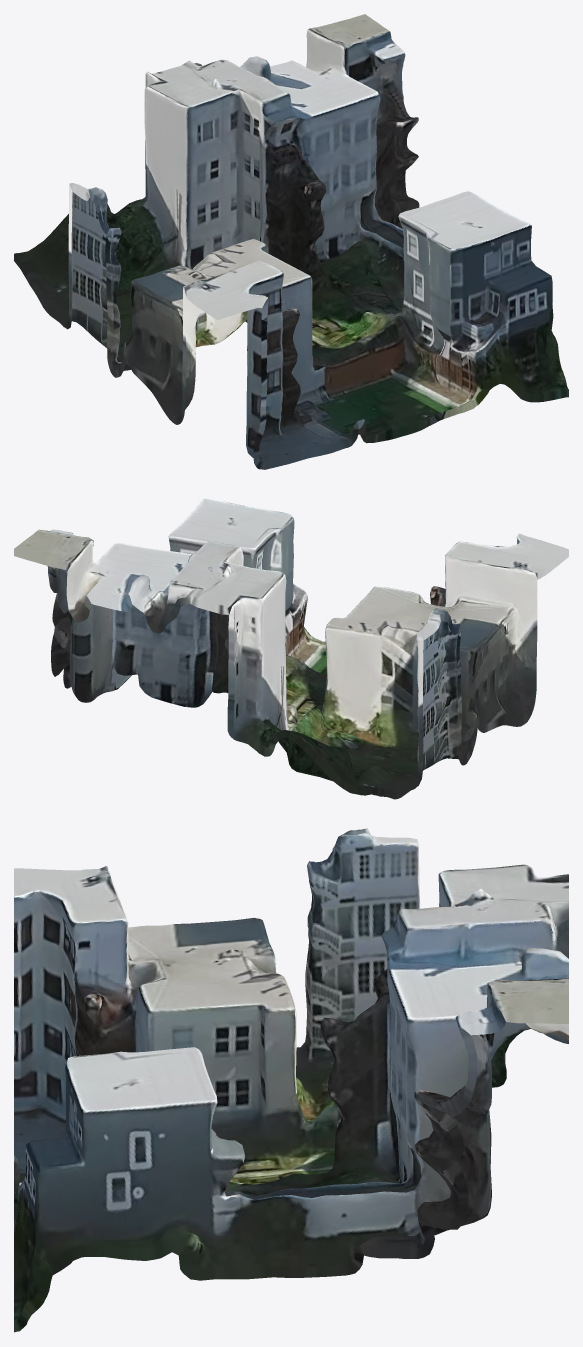
Rendered from z20-167725-405193-h0-yup-uvflip-v3-world.glb.
3 renders of one model, top to bottom at view 1: azimuth 30°, elevation 25°; view 2: azimuth 150°, elevation 25°; view 3: azimuth 270°, elevation 25°, orthographic. The views are drawn at different scales.
Size of the model in its own units: 30.16 by 19.48 by 30.32.
Materials: 1 (1 with a texture image).
